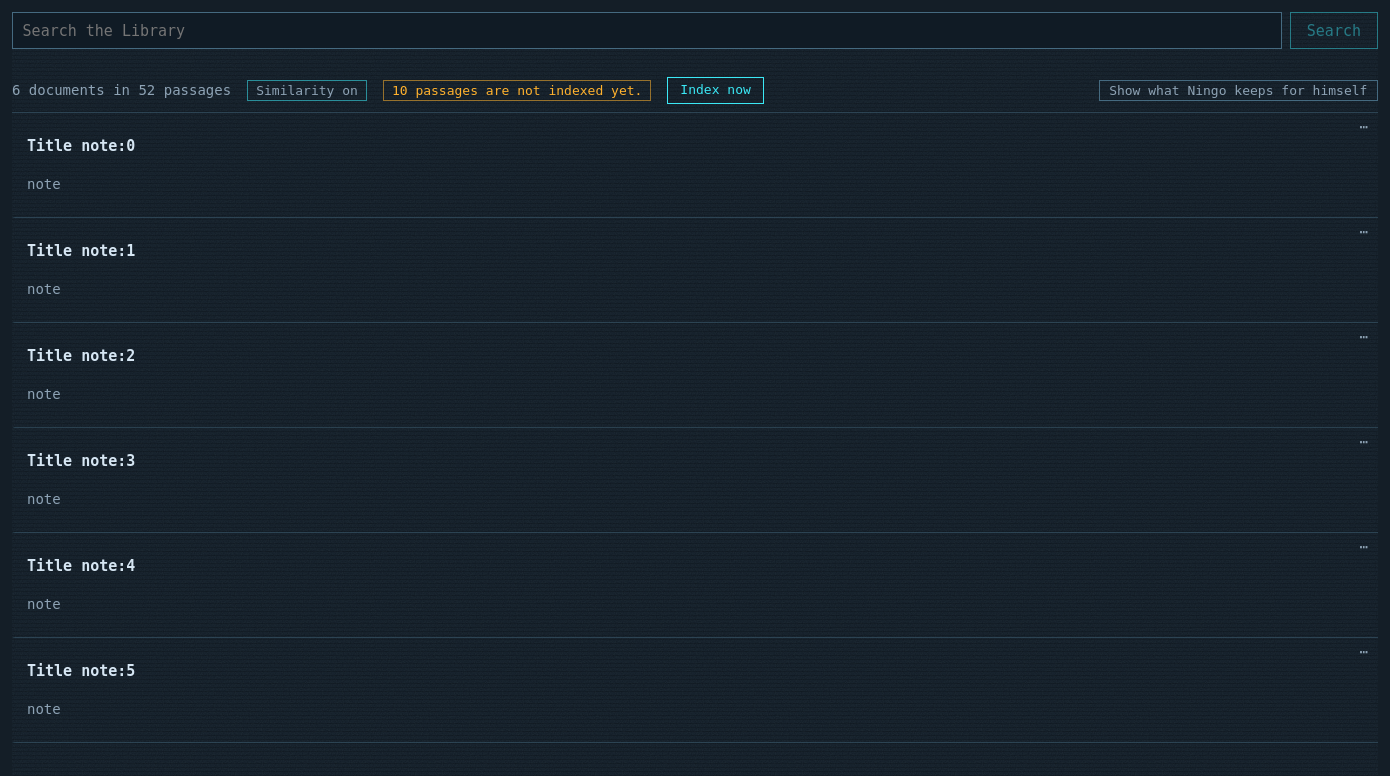
Scenario: the line under the search › holds the counts, the similarity chip and the filter on one line, and the pending passages with their fix
This screenshot has width=1390, height=776.
Expected: the text "6 documents in 52 passages" is shown, 12,79 -> 231,102
Expected: the text "Similarity on" is shown, 247,80 -> 367,101
Click the button with aria-label "Index pending passages" at coordinates (716, 90), box 667,77 -> 764,104
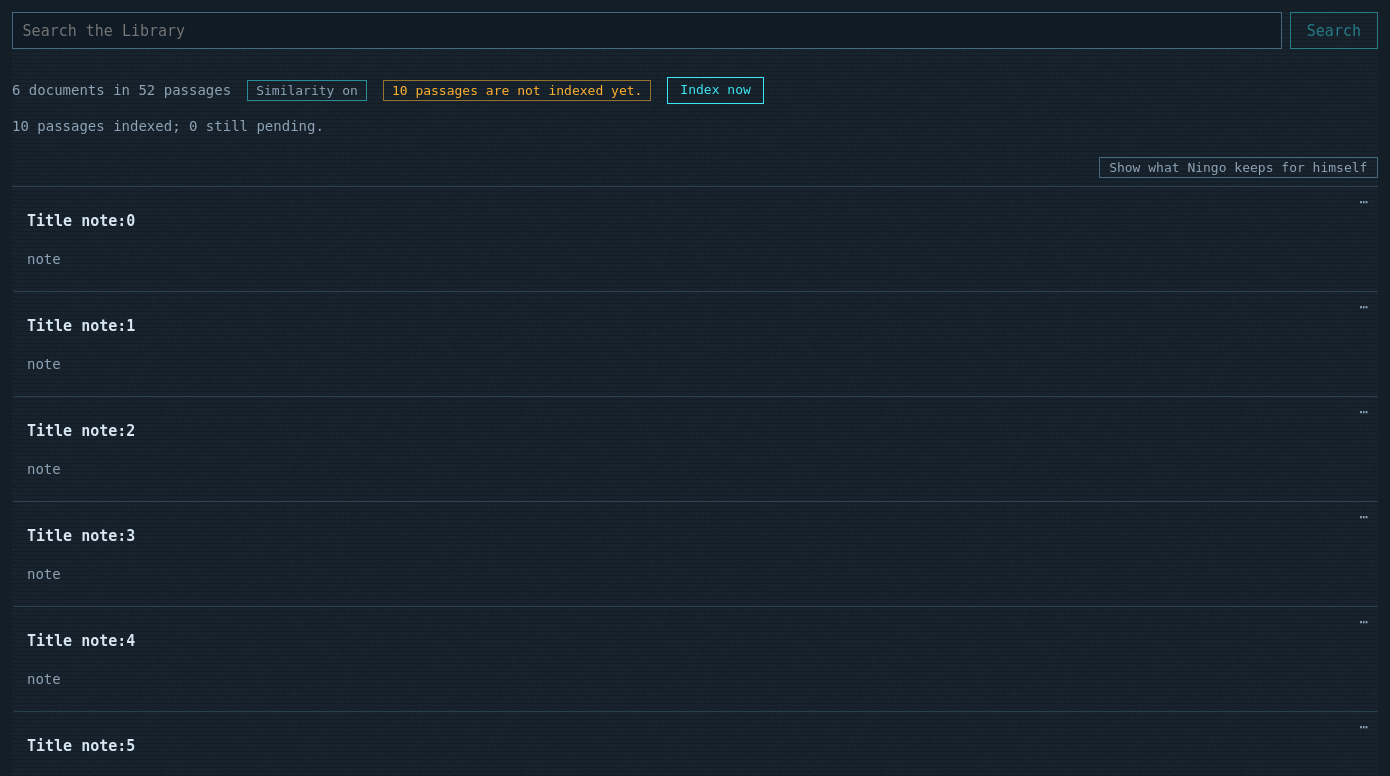
Expected: the text "10 passages indexed; 0 still pending." is shown, 12,118 -> 324,134
